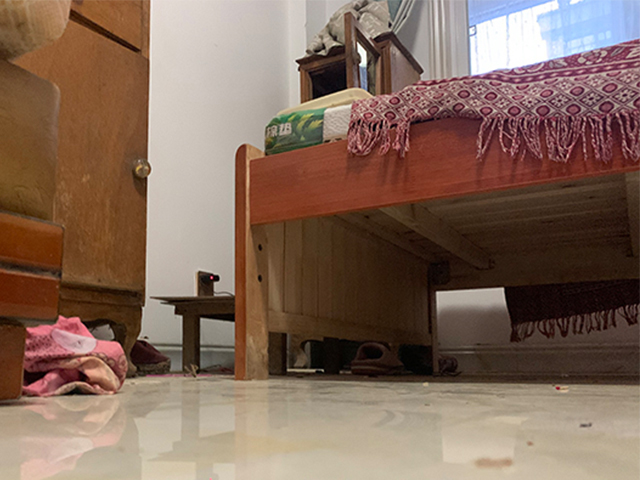bed: (233, 37, 640, 382)
cabinet: (54, 1, 153, 376)
slippers: (351, 342, 406, 376)
